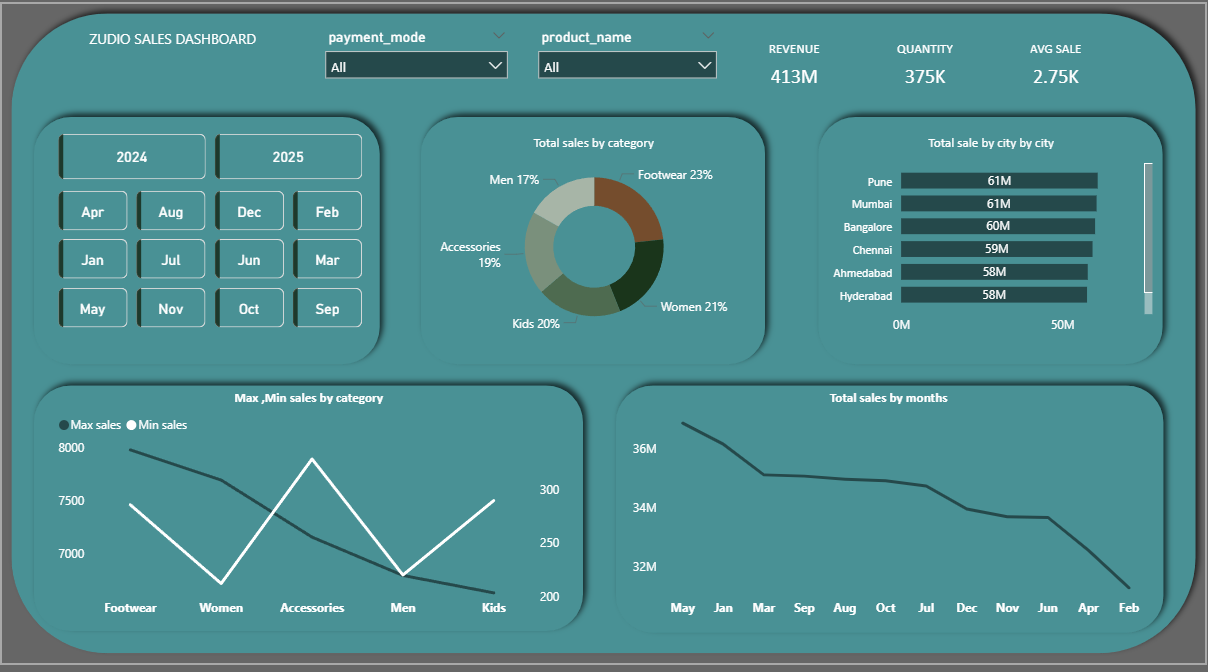

The dashboard page shown, as its layout file describes it:
{"tool":"powerbi","page":{"name":"Page 1","canvas":[1280,720],"ordinal":0},"visuals":[{"type":"shape","box":[41.1,28.4,1217.4,667.9],"z":0},{"type":"shape","box":[650.5,404.2,574.7,271.6],"z":1000},{"type":"shape","box":[63.2,404.2,576.3,270],"z":2000},{"type":"shape","box":[63.2,132.6,371.1,271.6],"z":3000},{"type":"shape","box":[454.7,132.6,369.5,271.6],"z":4000},{"type":"shape","box":[855.8,132.6,369.5,271.6],"z":5000},{"type":"barChart","fields":{"Category":["Data.city"],"Y":["Sum(Data.total_amount)"]},"box":[873.2,162.6,334.7,210],"z":6000},{"type":"cardVisual","fields":{"Data":["Sum(Data.total_amount)","Sum(Data.quantity)","Avg(Data.total_amount)"]},"box":[762.6,27,408.3,129],"z":7000},{"type":"lineChart","title":"Total sales by months","fields":{"Y":["Sum(Data.total_amount)"],"Category":["Data.months"]},"box":[674.2,420,527.4,238.4],"z":8000},{"type":"donutChart","title":"Total sales by category","fields":{"Category":["Data.category"],"Y":["Avg(Data.total_amount)"]},"box":[470.5,162.6,337.9,210],"z":9000},{"type":"slicer","fields":{"Values":["Data.payment_mode"]},"box":[358.2,50.1,204.1,57.8],"z":10000},{"type":"textbox","box":[113.7,50.5,202.1,28.4],"z":11000},{"type":"advancedSlicerVisual","fields":{"Values":["Data.months"]},"box":[93.2,213.2,319,150],"z":12000},{"type":"advancedSlicerVisual","fields":{"Values":["Data.year"]},"box":[93.2,156.3,319,56.8],"z":13000},{"type":"lineChart","title":"Max ,Min sales by category","fields":{"Category":["Data.category"],"Y2":["Min(Data.total_amount)"],"Y":["Max(Data.total_amount)"]},"box":[93.2,420,516.3,238.4],"z":14000},{"type":"slicer","fields":{"Values":["Data.product_name"]},"box":[573.9,50.1,200.3,57.8],"z":15000}]}

Visuals, with their boxes in screenshot pixels (x1, y1, x2, y2), scaled from the page's 1280x720 canvas onto the 1208x672 screenshot:
shape: rect(39, 27, 1188, 650)
shape: rect(614, 377, 1156, 631)
shape: rect(60, 377, 604, 629)
shape: rect(60, 124, 410, 377)
shape: rect(429, 124, 778, 377)
shape: rect(808, 124, 1156, 377)
barChart - Data.city x Sum(Data.total_amount): rect(824, 152, 1140, 348)
cardVisual - Sum(Data.total_amount) x Sum(Data.quantity): rect(720, 25, 1105, 146)
"Total sales by months" lineChart: rect(636, 392, 1134, 615)
"Total sales by category" donutChart: rect(444, 152, 763, 348)
slicer - Data.payment_mode: rect(338, 47, 531, 101)
textbox: rect(107, 47, 298, 74)
advancedSlicerVisual - Data.months: rect(88, 199, 389, 339)
advancedSlicerVisual - Data.year: rect(88, 146, 389, 199)
"Max ,Min sales by category" lineChart: rect(88, 392, 575, 615)
slicer - Data.product_name: rect(542, 47, 731, 101)
